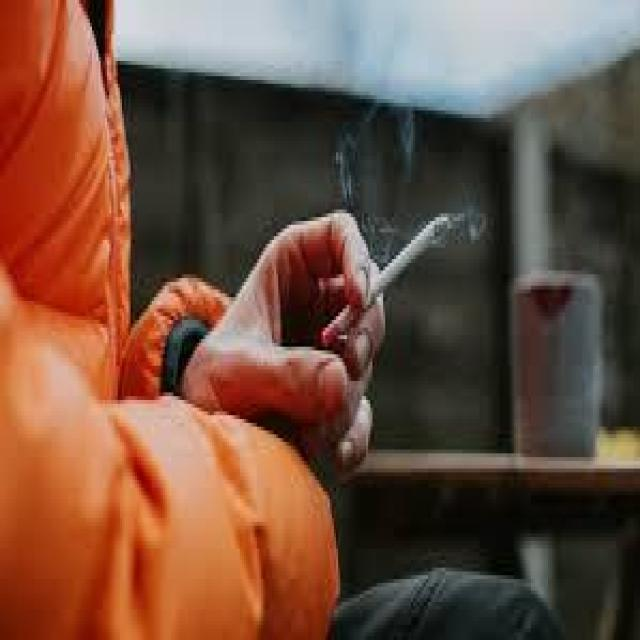cigarette: (375, 210, 484, 297), (321, 309, 351, 343)
